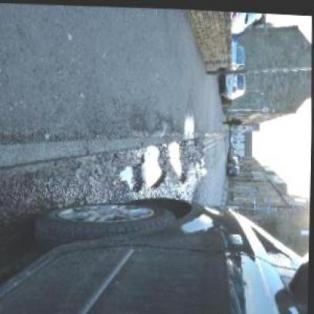Hueco: (142, 143, 167, 186), (166, 138, 190, 182), (119, 161, 141, 191)
